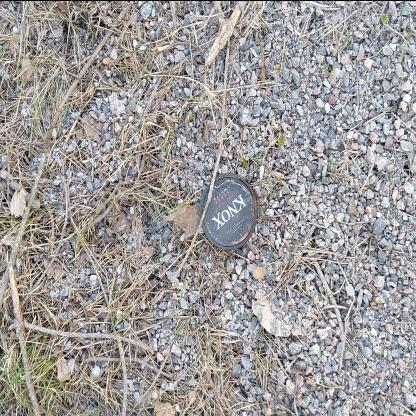plastik: (201, 173, 260, 250)
